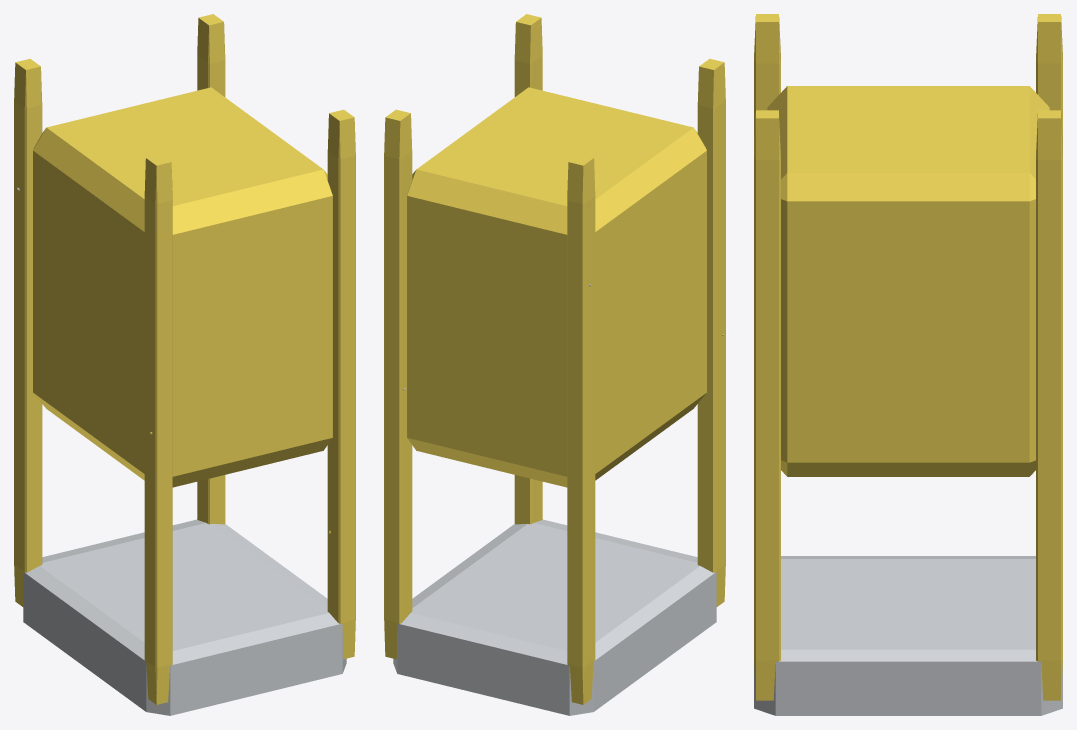
Rendered from b07_circular_foundation_rebar_cage.glb.
The picture shows the model from 3 angles, left to right: view 1: azimuth 30°, elevation 25°; view 2: azimuth 150°, elevation 25°; view 3: azimuth 270°, elevation 25°; orthographic projection. The views are drawn at different scales.
Visible parts, largest first — view 1: b07_circular_foundation_rebar_cage; view 2: b07_circular_foundation_rebar_cage; view 3: b07_circular_foundation_rebar_cage.
Part boxes in pixels (x1,y1,x2,y2): b07_circular_foundation_rebar_cage: [14, 14, 355, 715]; b07_circular_foundation_rebar_cage: [384, 14, 725, 715]; b07_circular_foundation_rebar_cage: [754, 14, 1062, 715].
Size of the model in its own units: 1.34 by 3.52 by 1.64.
